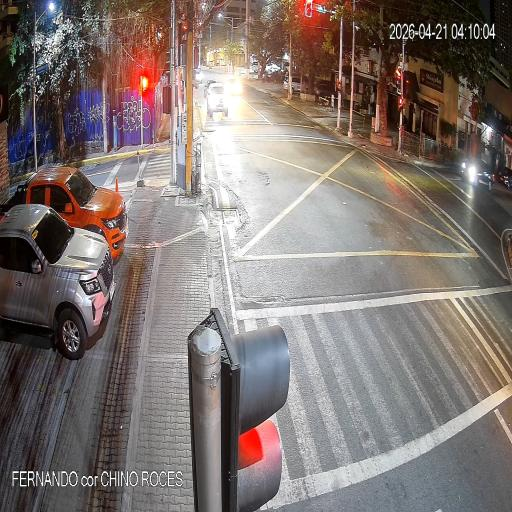Car: (0, 205, 117, 360), (15, 158, 136, 272), (460, 148, 498, 206), (206, 86, 231, 130), (284, 74, 306, 102), (250, 57, 266, 78)
